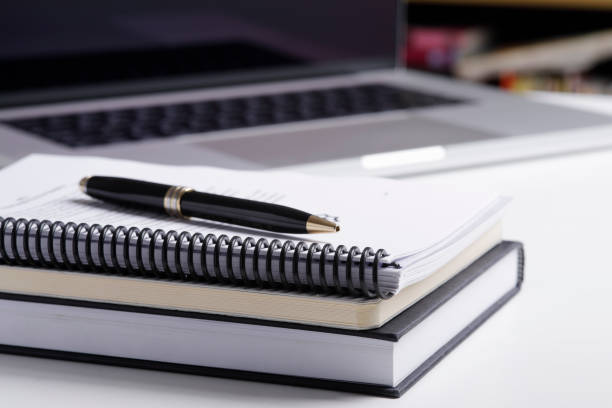pen: (74, 148, 359, 238)
